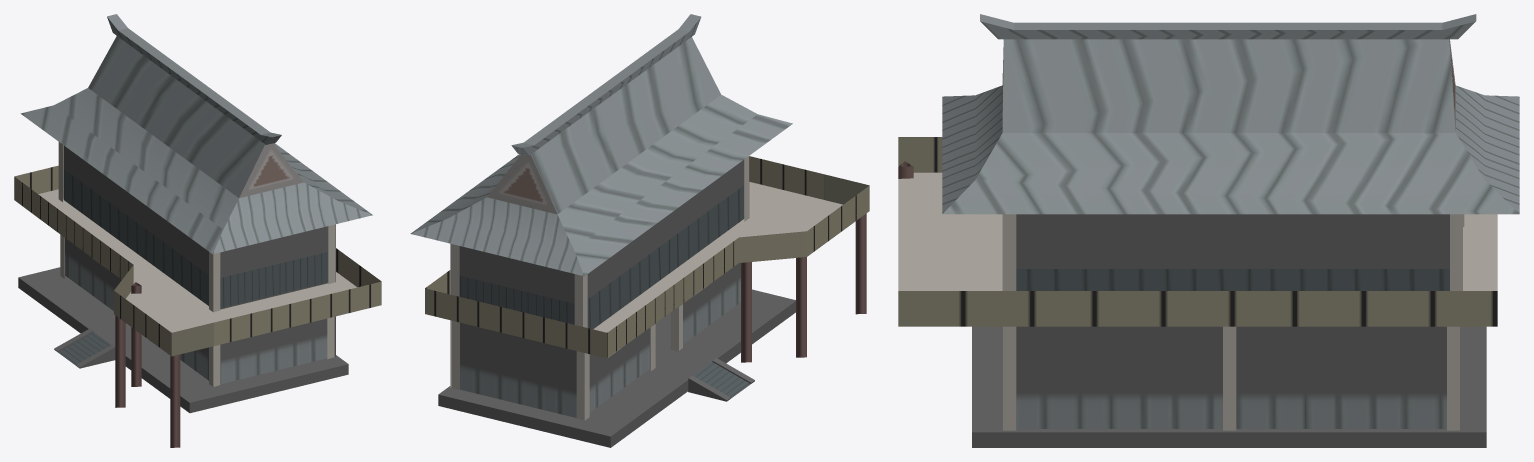
File: TS_Building_05.FBX
The picture shows the model from 3 angles, left to right: view 1: azimuth 30°, elevation 25°; view 2: azimuth 150°, elevation 25°; view 3: azimuth 270°, elevation 25°; orthographic projection. The views are drawn at different scales.
Visible parts, largest first — view 1: TS_Building_005; view 2: TS_Building_005; view 3: TS_Building_005.
Boxes of the visible parts, left/top/right/bottom form: TS_Building_005: left=14, top=14, right=381, bottom=447; TS_Building_005: left=410, top=14, right=869, bottom=447; TS_Building_005: left=898, top=14, right=1519, bottom=447.
Bounding box in the file's own units: 3.3 × 3.81 × 5.48.
